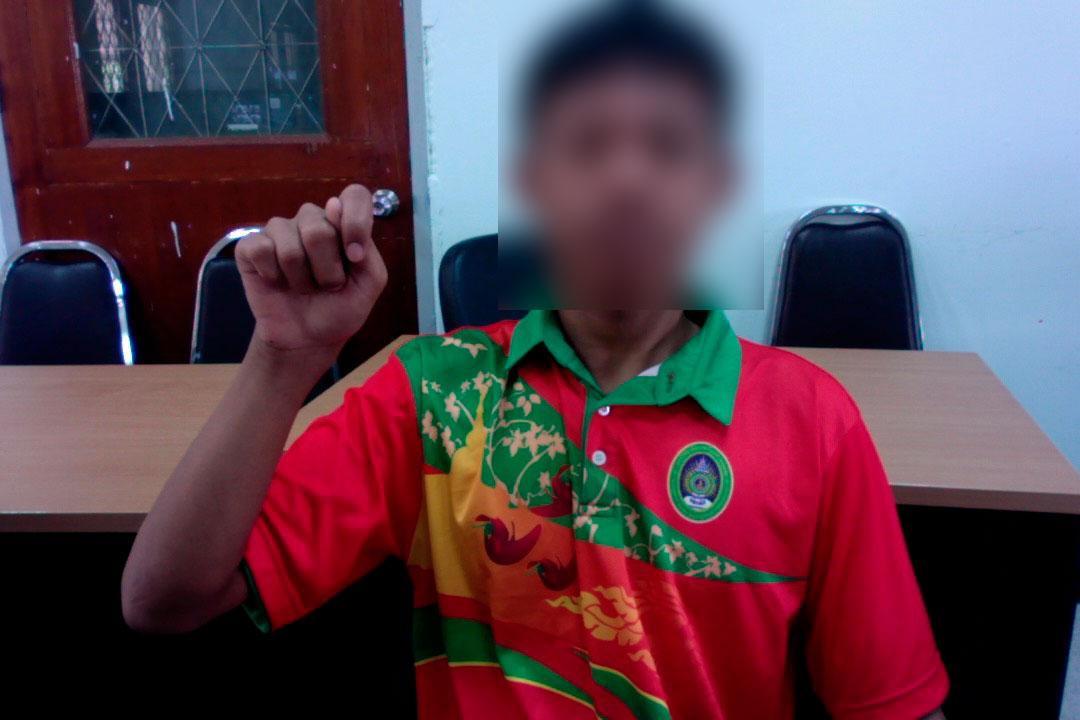tor: (231, 178, 388, 358)
